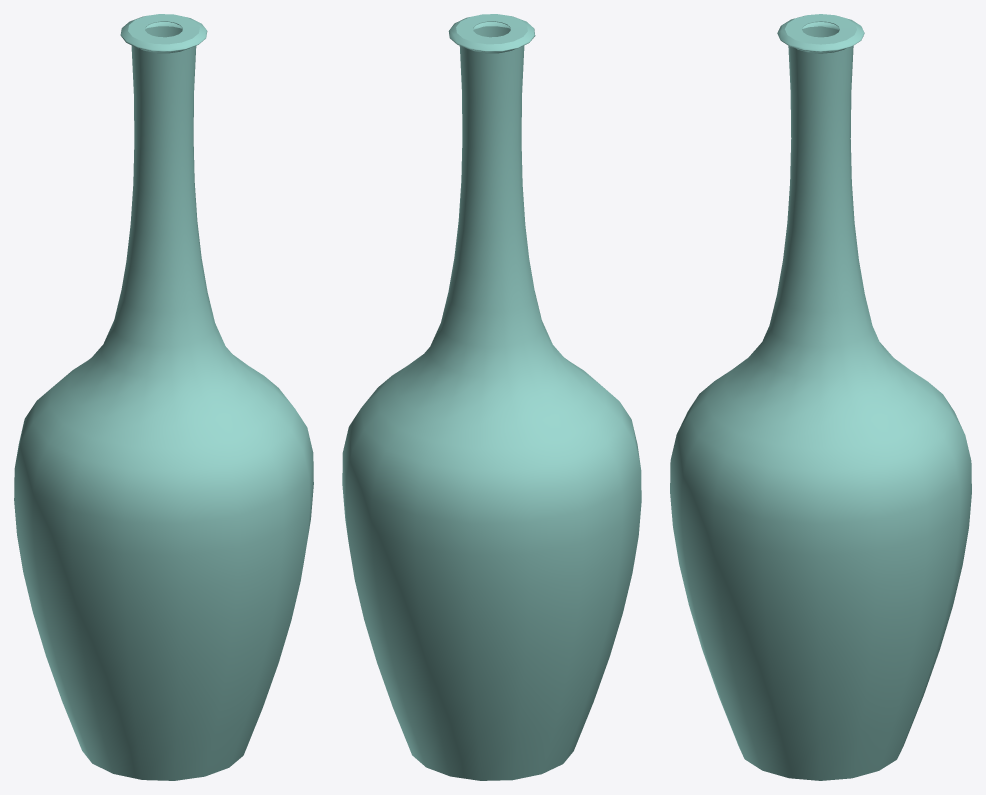
File: Vase.FBX
3 renders of one model, left to right at view 1: azimuth 30°, elevation 25°; view 2: azimuth 150°, elevation 25°; view 3: azimuth 270°, elevation 25°, orthographic.
Parts seen in each view (by area): view 1: Vase 2; view 2: Vase 2; view 3: Vase 2.
Part boxes in pixels (box(x1,y1,x2,y2)): Vase 2: box(14, 14, 313, 780); Vase 2: box(342, 14, 641, 780); Vase 2: box(670, 14, 971, 780).
Size of the model in its own units: 19.9 by 19.9 by 52.12.
